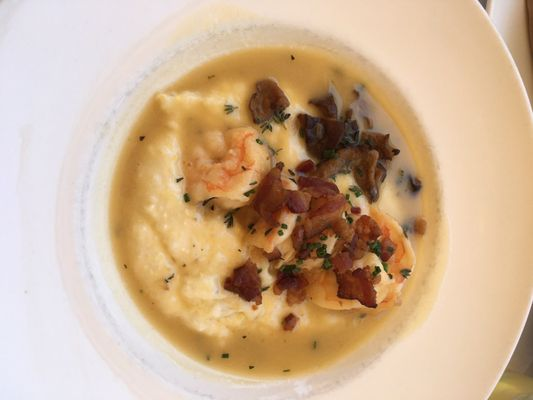sushi: (53, 2, 518, 396)
